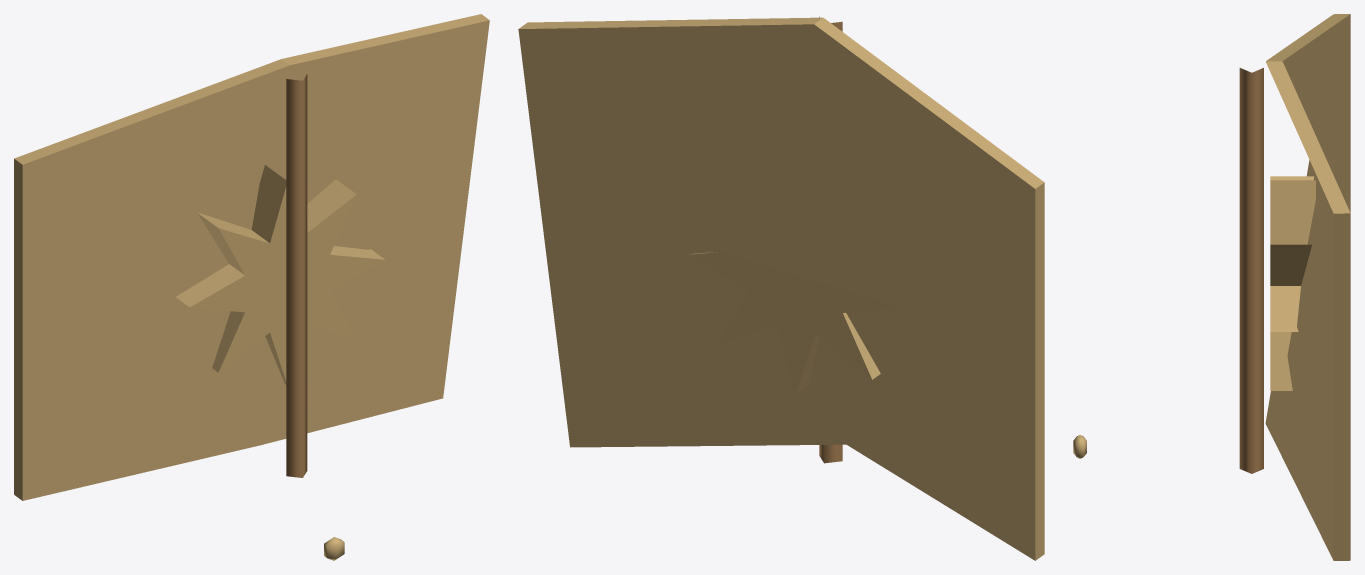
The picture shows the model from 3 angles, left to right: view 1: azimuth 30°, elevation 25°; view 2: azimuth 150°, elevation 25°; view 3: azimuth 270°, elevation 25°; orthographic projection. The views are drawn at different scales.
Visible parts, largest first — view 1: g_s66; view 2: g_s66; view 3: g_s66.
Boxes of the visible parts, bbox=[...] form: g_s66: bbox=[14, 14, 489, 560]; g_s66: bbox=[518, 16, 1044, 560]; g_s66: bbox=[1073, 14, 1350, 560].
Bounding box in the file's own units: 0.3441 × 0.2934 × 0.1751.
